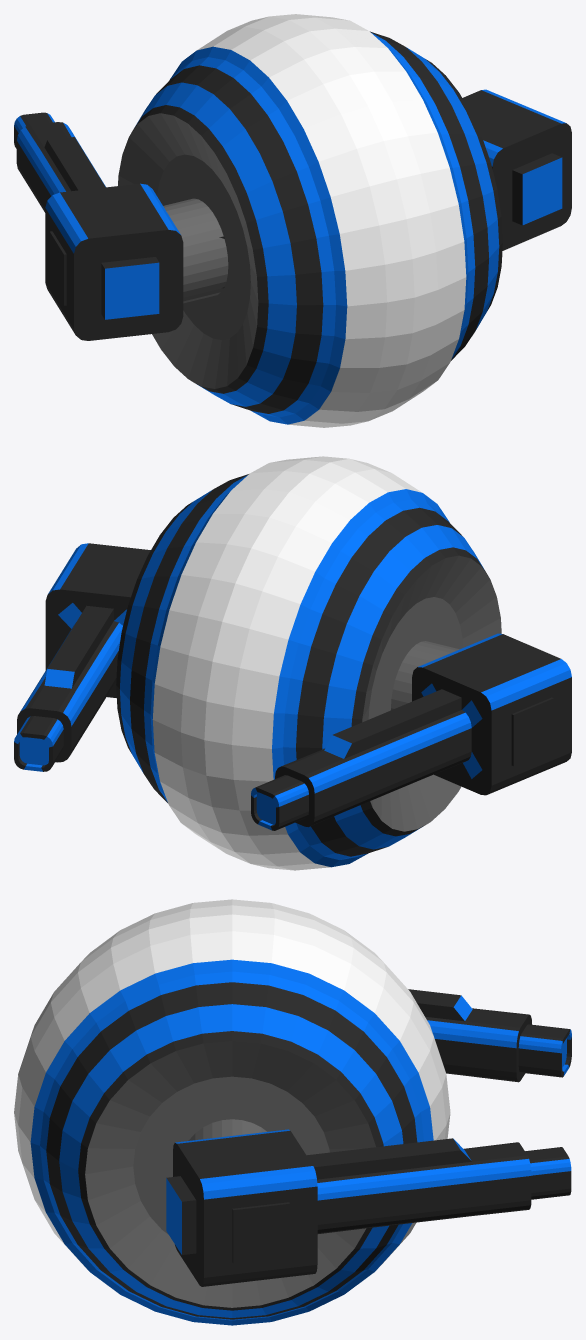
Rendered from drone.glb.
3 views of the same model, one above another, from view 1: azimuth 30°, elevation 25°; view 2: azimuth 150°, elevation 25°; view 3: azimuth 270°, elevation 25° (orthographic). The views are drawn at different scales.
Visible parts, largest first — view 1: Sphere, Sphere.001, Cube.002, Cube.001; view 2: Sphere, Sphere.001, Cube.002, Cube.001; view 3: Sphere, Cube.001, Sphere.001, Cube.002.
Part boxes in pixels (left/top/right/bottom): Sphere: left=118, top=31, right=502, bottom=424; Sphere.001: left=197, top=14, right=466, bottom=427; Cube.002: left=14, top=112, right=224, bottom=340; Cube.001: left=462, top=89, right=571, bottom=250; Sphere: left=116, top=474, right=501, bottom=867; Sphere.001: left=152, top=456, right=421, bottom=870; Cube.002: left=251, top=633, right=571, bottom=830; Cube.001: left=14, top=543, right=150, bottom=771; Sphere: left=30, top=959, right=433, bottom=1325; Cube.001: left=166, top=1129, right=571, bottom=1286; Sphere.001: left=14, top=899, right=450, bottom=1269; Cube.002: left=408, top=989, right=571, bottom=1082.
Bounding box in the file's own units: 2.88 × 2.1 × 2.68.
Materials: 4 (1 with a texture image).
